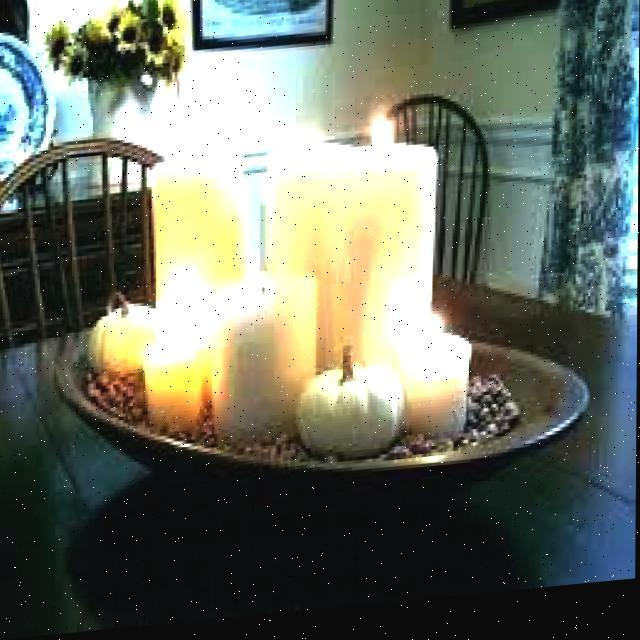Fire: (364, 112, 404, 164)
